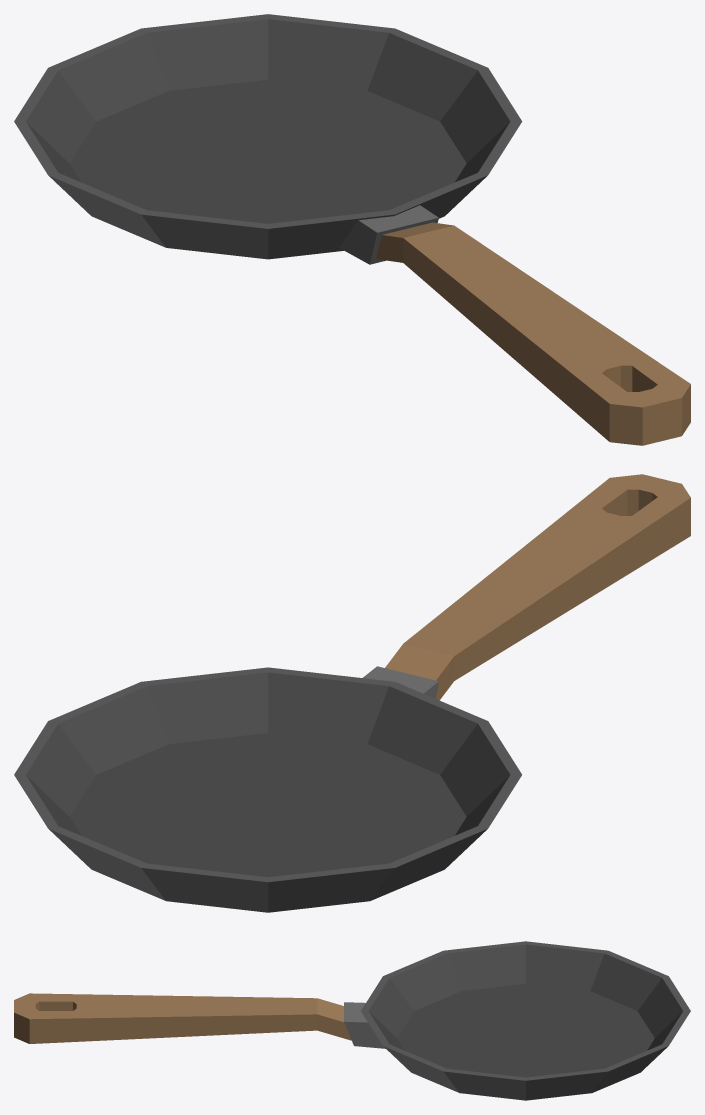
File: Pan_08_C2.fbx
3 renders of one model, top to bottom at view 1: azimuth 30°, elevation 25°; view 2: azimuth 150°, elevation 25°; view 3: azimuth 270°, elevation 25°, orthographic. The views are drawn at different scales.
Parts seen in each view (by area): view 1: Pan_08_C2; view 2: Pan_08_C2; view 3: Pan_08_C2.
Part boxes in pixels (x1=…): Pan_08_C2: x1=14, y1=14, x2=690, y2=445; Pan_08_C2: x1=14, y1=474, x2=690, y2=912; Pan_08_C2: x1=14, y1=941, x2=690, y2=1100.
Size of the model in its own units: 18.36 by 2.35 by 37.64.
